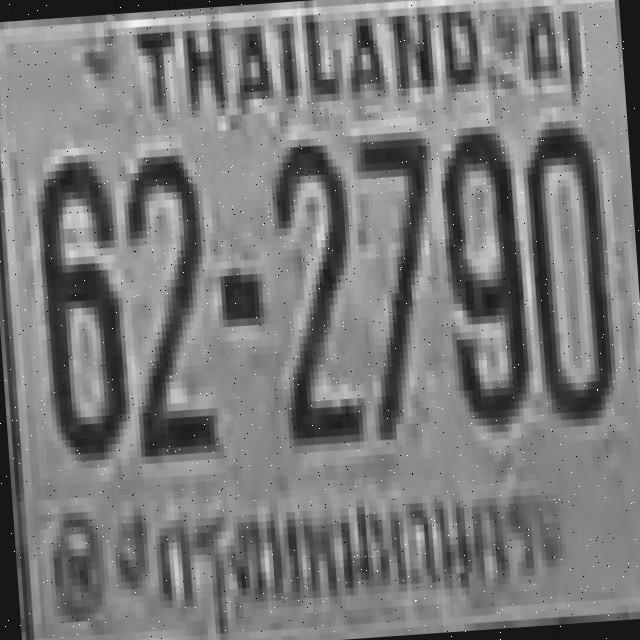0: (520, 115, 614, 417)
2: (117, 144, 213, 454), (268, 137, 359, 439)
6: (29, 146, 124, 456)
7: (352, 123, 443, 433)
9: (437, 118, 528, 420)
Bangkok: (145, 466, 565, 640)
